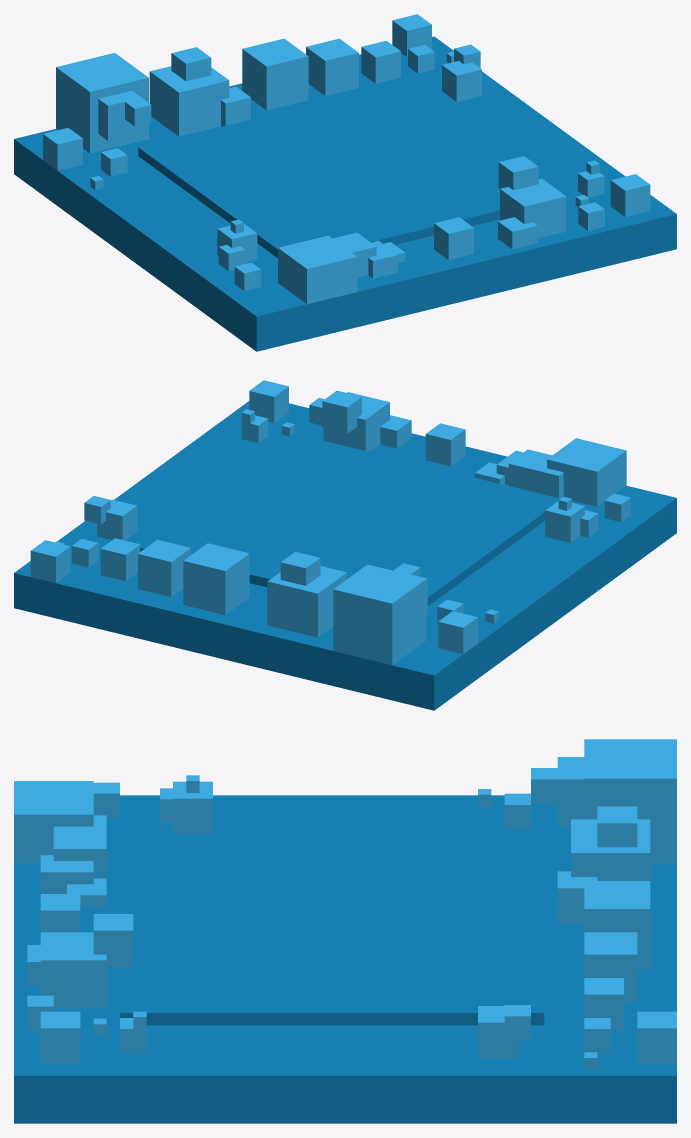
The model's file is Mini_World_Tutorial.fbx.
3 views of the same model, one above another, from view 1: azimuth 30°, elevation 25°; view 2: azimuth 150°, elevation 25°; view 3: azimuth 270°, elevation 25° (orthographic). The views are drawn at different scales.
Parts seen in each view (by area): view 1: Matrix_2; view 2: Matrix_2; view 3: Matrix_2.
Part boxes in pixels (bbox=[...]): Matrix_2: bbox=[14, 14, 676, 351]; Matrix_2: bbox=[14, 380, 676, 710]; Matrix_2: bbox=[14, 739, 676, 1123].
Bounding box in the file's own units: 50 × 11 × 50.
